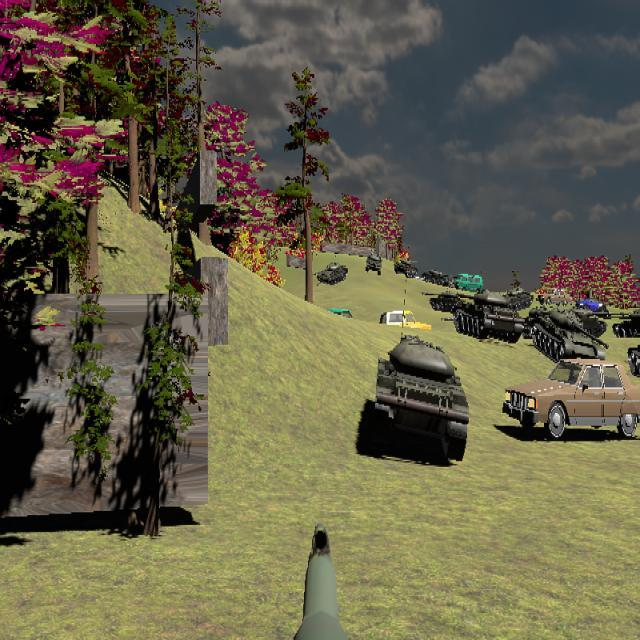Tank: (375, 334, 469, 463), (532, 307, 608, 365), (454, 289, 525, 344), (422, 288, 472, 313), (608, 310, 640, 338), (311, 261, 348, 285), (502, 286, 534, 310), (627, 335, 640, 381), (394, 257, 418, 278), (422, 268, 449, 286), (365, 250, 382, 274)
car: (502, 358, 640, 440), (378, 309, 432, 339), (537, 288, 573, 309), (453, 273, 484, 296)
